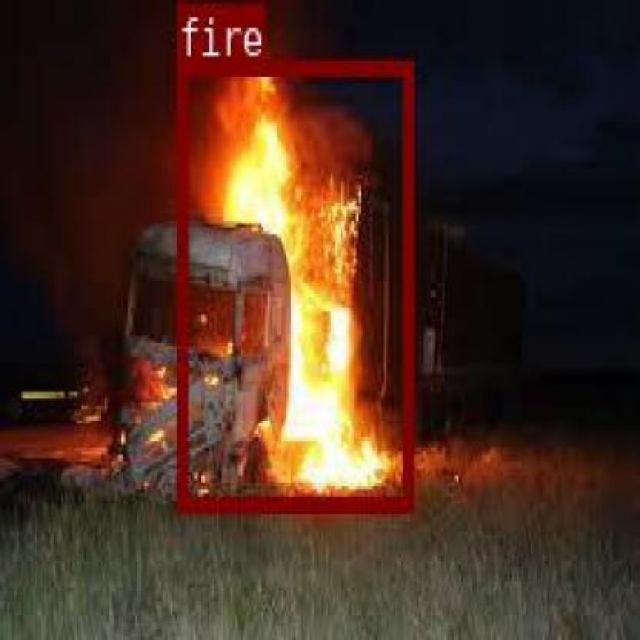Fire: (236, 284, 293, 451)
